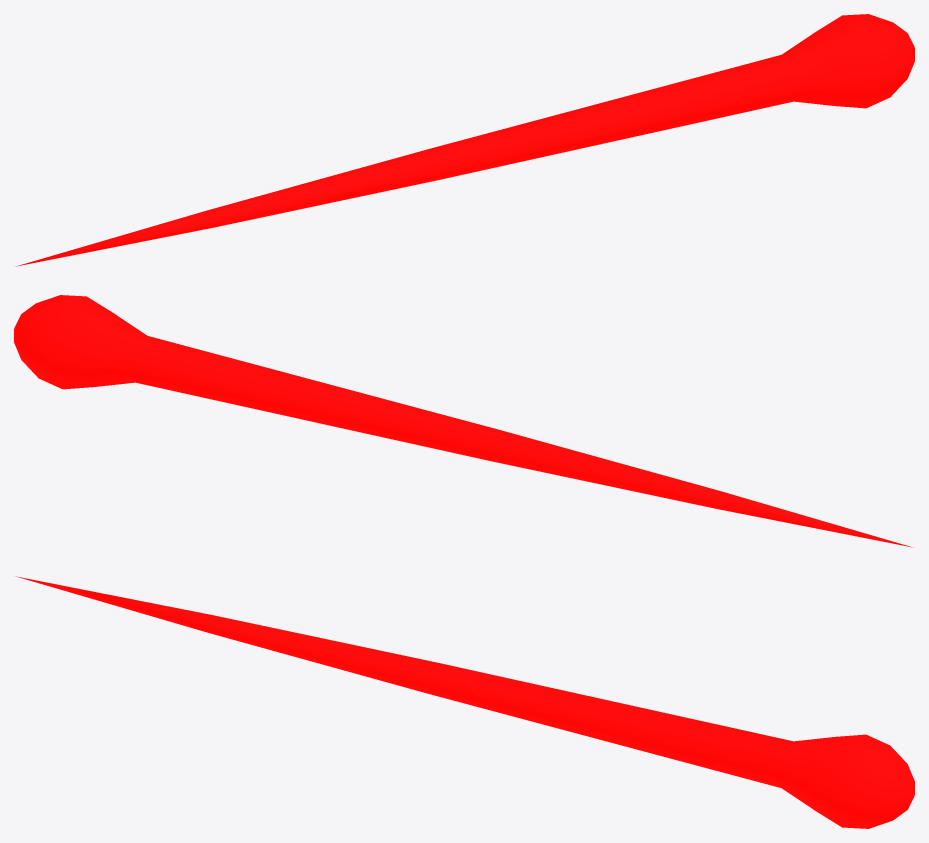
The model's file is SM_Laser.fbx.
3 renders of one model, top to bottom at view 1: azimuth 30°, elevation 25°; view 2: azimuth 150°, elevation 25°; view 3: azimuth 330°, elevation 25°, orthographic.
Visible parts, largest first — view 1: SM_Laser; view 2: SM_Laser; view 3: SM_Laser.
Boxes of the visible parts, box(x1,y1,x2,y2) form: SM_Laser: box(16, 14, 914, 266); SM_Laser: box(14, 295, 912, 547); SM_Laser: box(16, 576, 914, 828).
Bounding box in the file's own units: 249 × 19.9 × 22.98.
